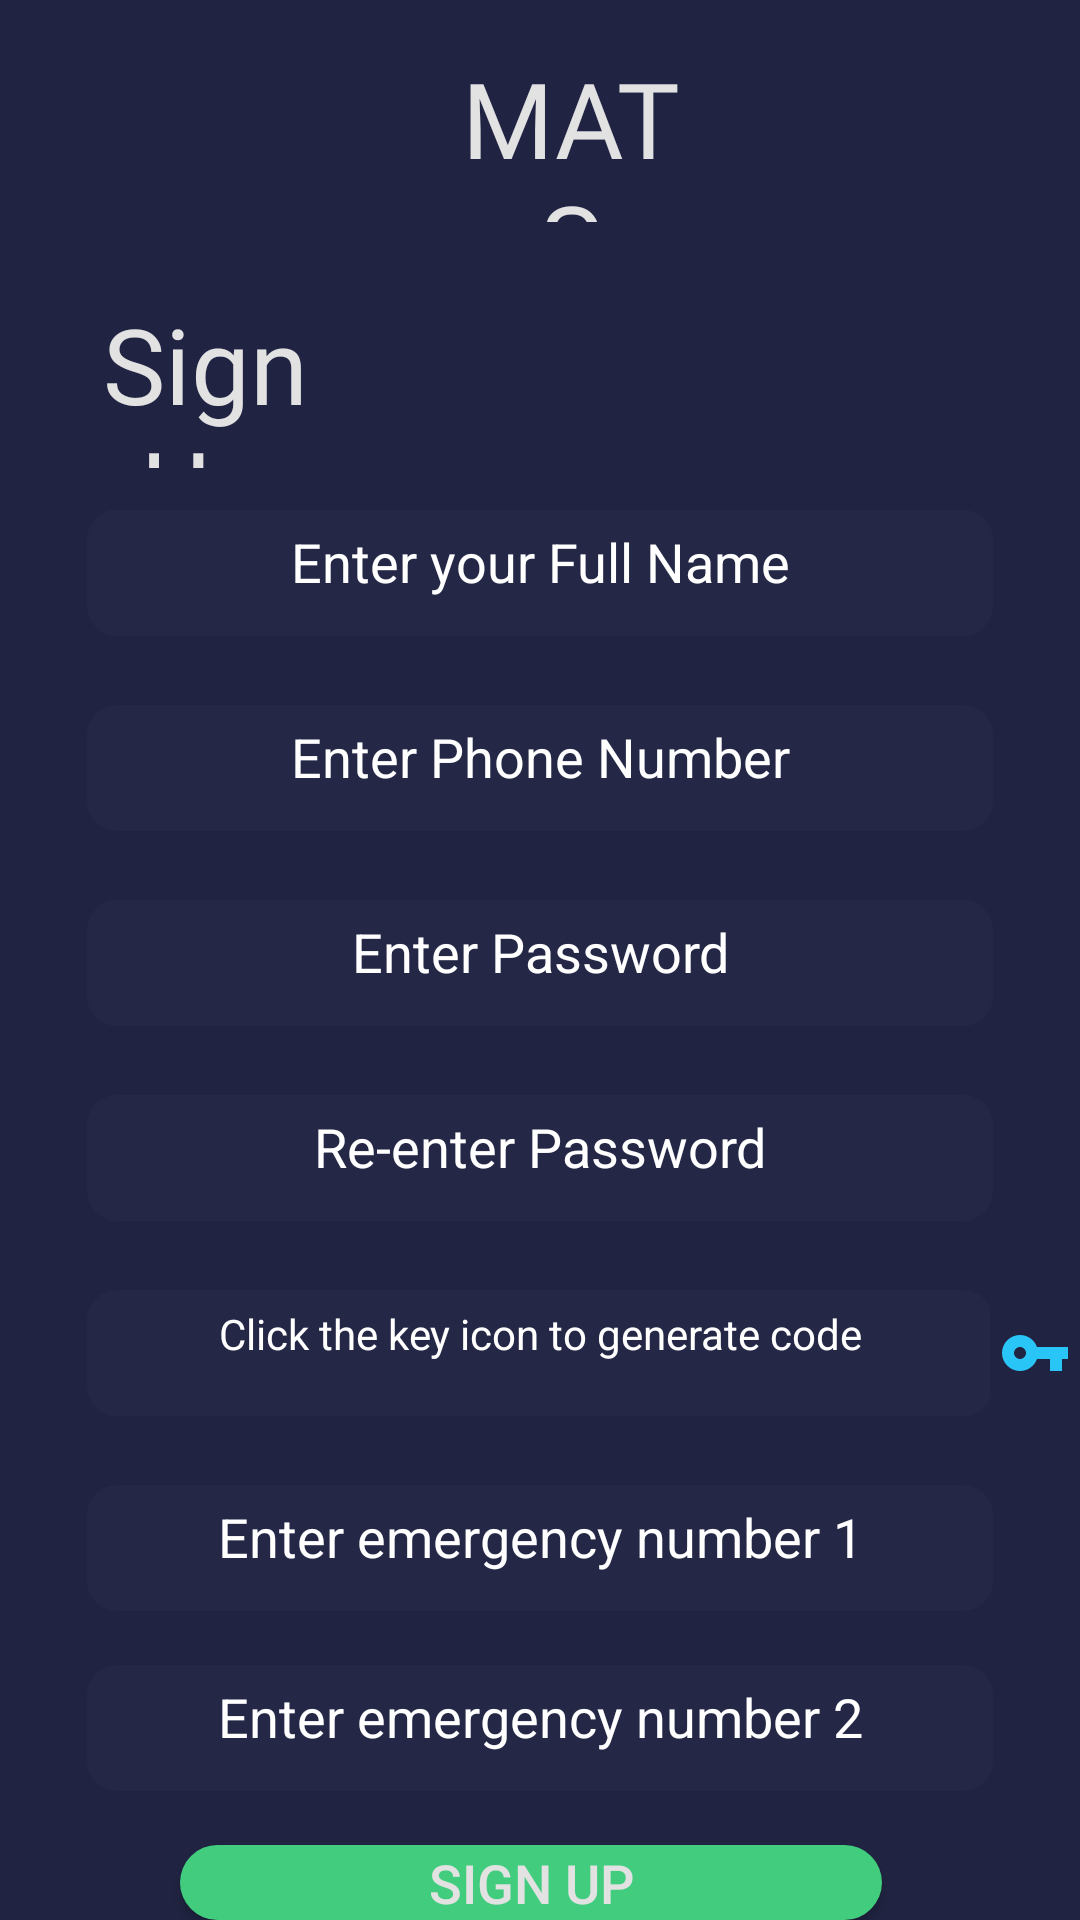

Named icons in this screenshot (1080x1920) and their centers, (x=x, y=y):
keys: (x=1035, y=1353)
